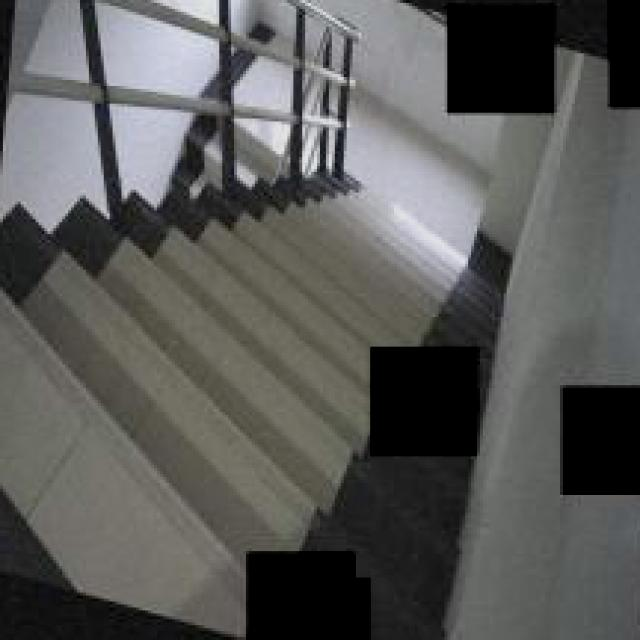downstair: (324, 161, 522, 336)
